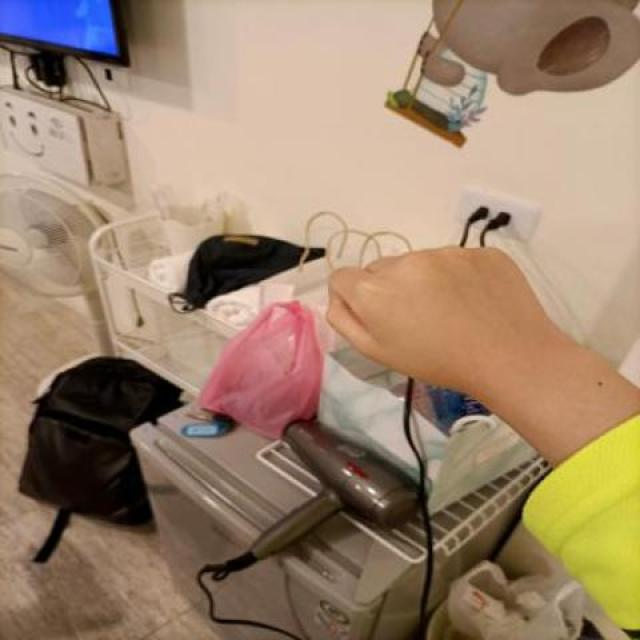Closed Hand: (317, 235, 547, 418)
